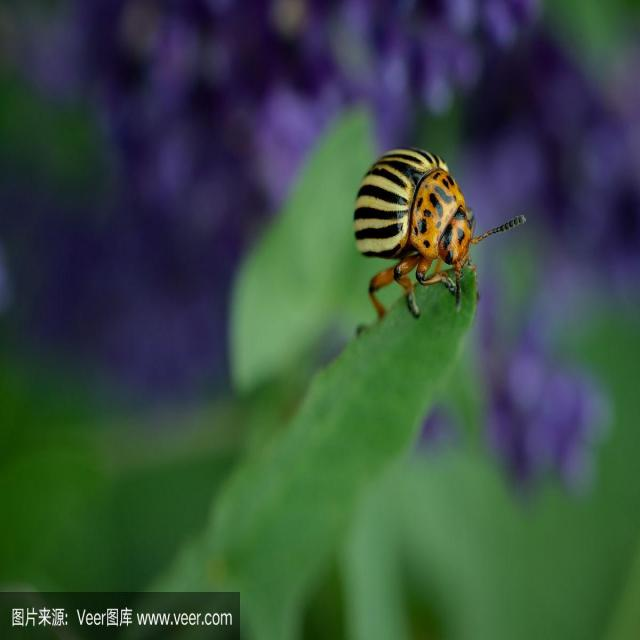ShuCaiHuaBanChong-Grown-: (343, 132, 492, 317)
